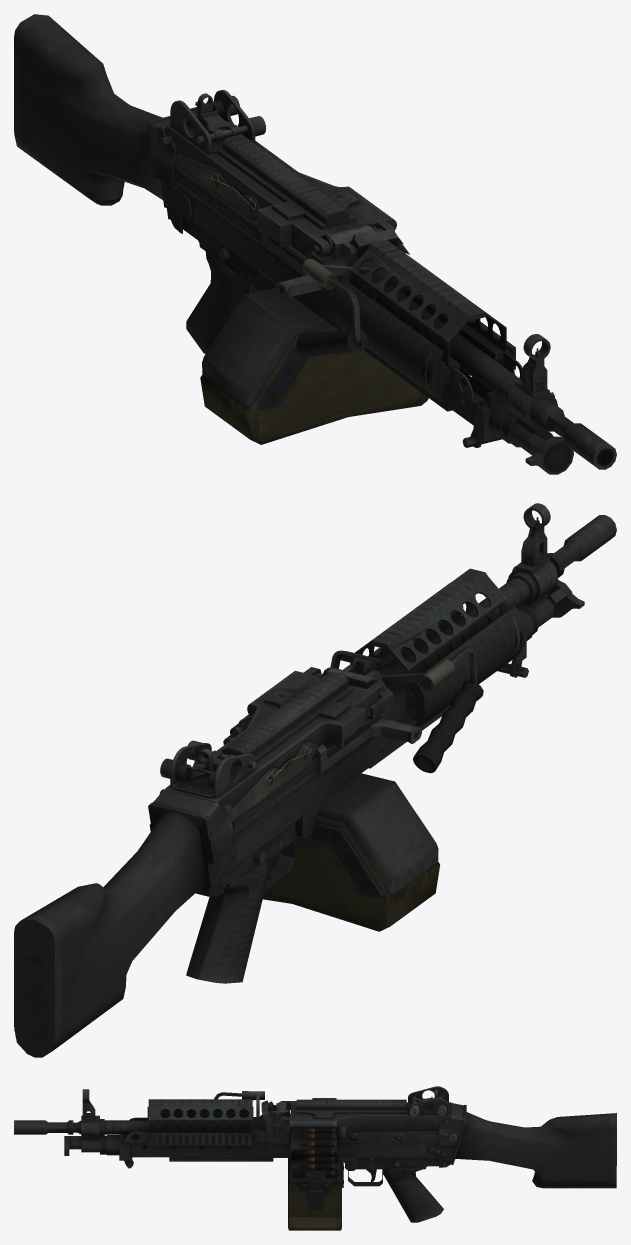
3 views of the same model, one above another, from view 1: azimuth 30°, elevation 25°; view 2: azimuth 150°, elevation 25°; view 3: azimuth 270°, elevation 25° (orthographic). The views are drawn at different scales.
Parts seen in each view (by area): view 1: Mesh_0009, Mesh_0011, MAG_HATCH, CARRYHANDLE, CHARGINHANDLE; view 2: Mesh_0009, Mesh_0011, MAG_HATCH, CARRYHANDLE, CHARGINHANDLE; view 3: Mesh_0009, MAG_HATCH, Mesh_0011, last_pile_of_bullet, bullets, crazyamountofbullet.
Boxes of the visible parts, left/top/right/bottom form: Mesh_0009: left=14, top=14, right=616, bottom=474; Mesh_0011: left=200, top=287, right=428, bottom=444; MAG_HATCH: left=160, top=90, right=396, bottom=257; CARRYHANDLE: left=296, top=277, right=366, bottom=357; CHARGINHANDLE: left=260, top=231, right=331, bottom=298; Mesh_0009: left=14, top=503, right=616, bottom=1057; Mesh_0011: left=263, top=773, right=439, bottom=931; MAG_HATCH: left=159, top=667, right=385, bottom=821; CARRYHANDLE: left=413, top=647, right=483, bottom=773; CHARGINHANDLE: left=315, top=711, right=421, bottom=773; Mesh_0009: left=14, top=1089, right=616, bottom=1222; MAG_HATCH: left=278, top=1086, right=451, bottom=1132; Mesh_0011: left=288, top=1158, right=344, bottom=1230; last_pile_of_bullet: left=297, top=1155, right=334, bottom=1178; bullets: left=298, top=1139, right=334, bottom=1155; crazyamountofbullet: left=298, top=1128, right=334, bottom=1139.
Size of the model in its own units: 19.3 by 24.45 by 103.
2 materials, 2 textured.
